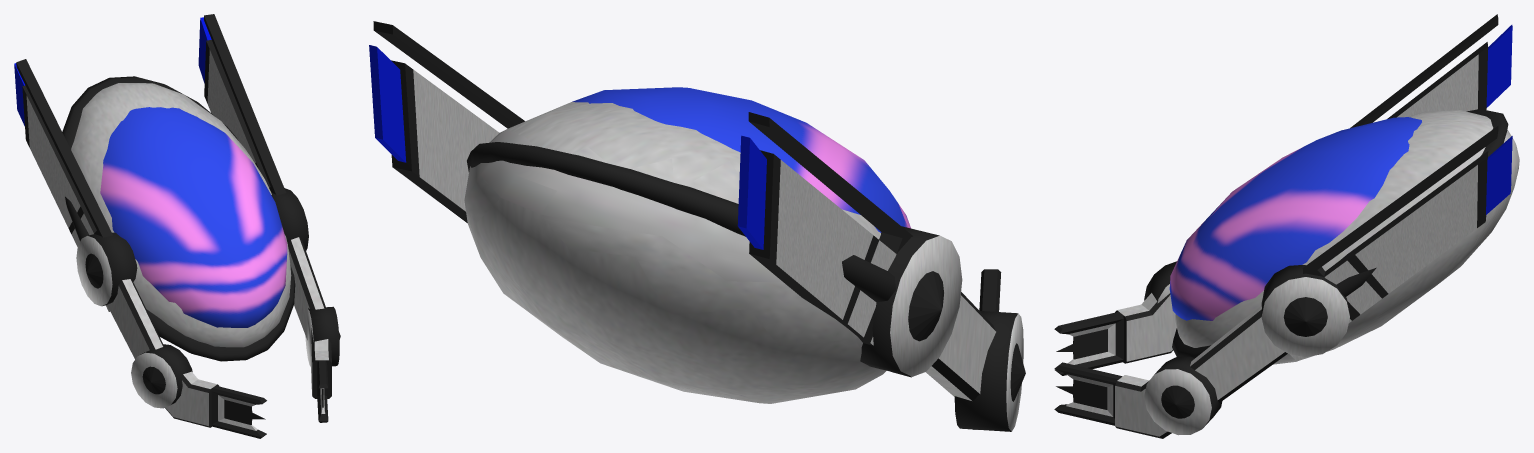
File: shockerS1.fbx
The picture shows the model from 3 angles, left to right: view 1: azimuth 30°, elevation 25°; view 2: azimuth 150°, elevation 25°; view 3: azimuth 270°, elevation 25°; orthographic projection. The views are drawn at different scales.
Parts seen in each view (by area): view 1: Screen, Body, LeftArn, Ears, RightArm; view 2: Body, Ears, LeftArn, Screen; view 3: Screen, Ears, RightArm, Body, LeftArn.
Part boxes in pixels (box(x1,y1,x2,y2)): Screen: box(100, 107, 287, 327); Body: box(62, 76, 295, 361); LeftArn: box(76, 232, 266, 438); Ears: box(14, 14, 286, 311); RightArm: box(271, 188, 340, 422); Body: box(464, 102, 895, 403); Ears: box(369, 21, 912, 377); LeftArn: box(860, 226, 1025, 431); Screen: box(572, 87, 910, 232); Screen: box(1169, 117, 1421, 320); Ears: box(1290, 14, 1512, 361); RightArm: box(1054, 265, 1349, 438); Body: box(1172, 109, 1519, 364); LeftArn: box(1054, 261, 1176, 375).
Size of the model in its own units: 264 by 311 by 409.
